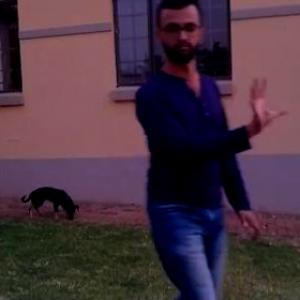follow_hand: (241, 72, 291, 130)
